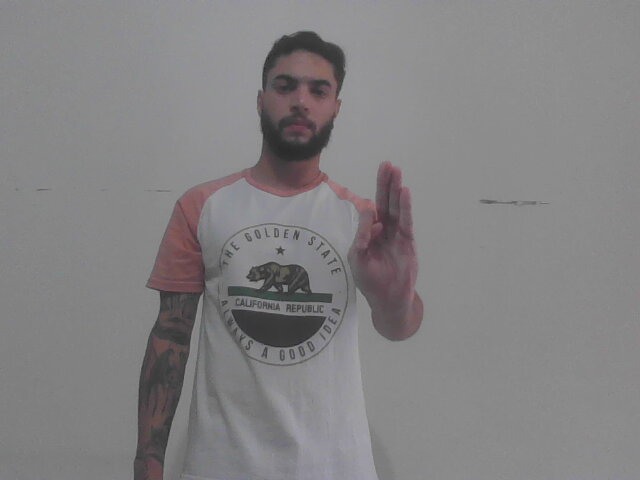t: (346, 156, 422, 313)
